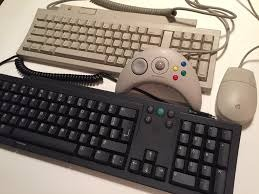keyboard: (0, 83, 243, 194), (17, 10, 224, 76)
mouse: (213, 63, 257, 129)
